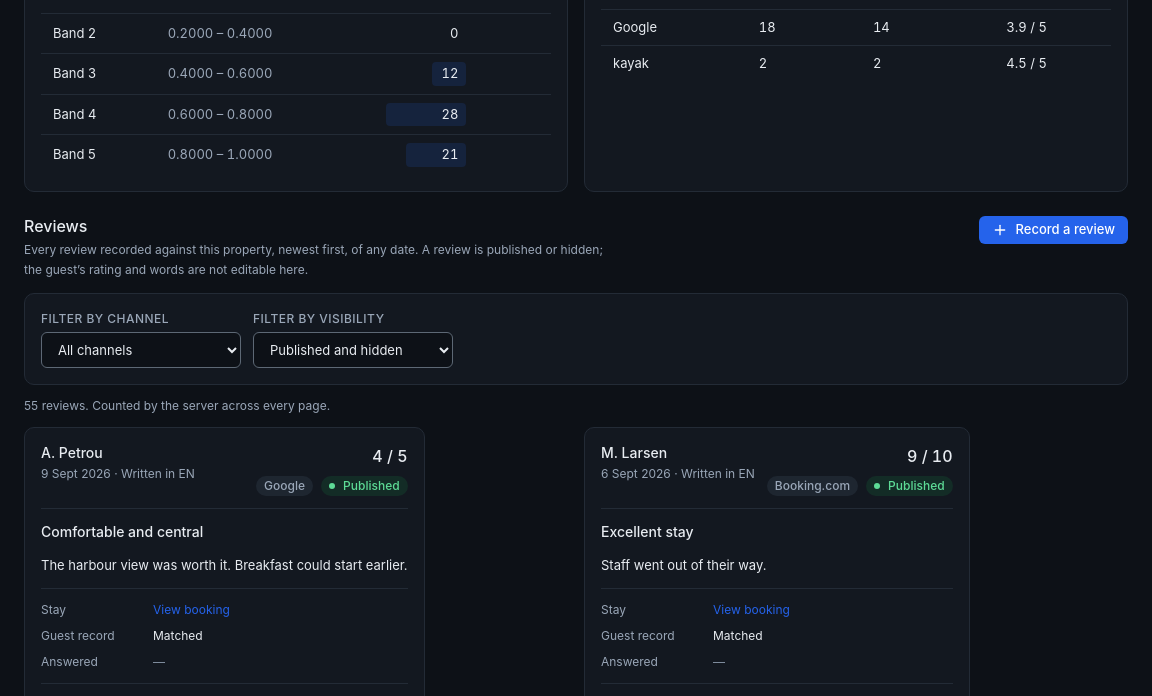
Test: filters and pagination › says an empty filtered result is a filtered result
(page scrolled)
Expected: the text "Comfortable and central" is shown, [41, 523, 203, 540]
Select "Airbnb" in the dropdown labelled "Filter by channel" at (141, 350), box [41, 332, 241, 368]
(page scrolled)
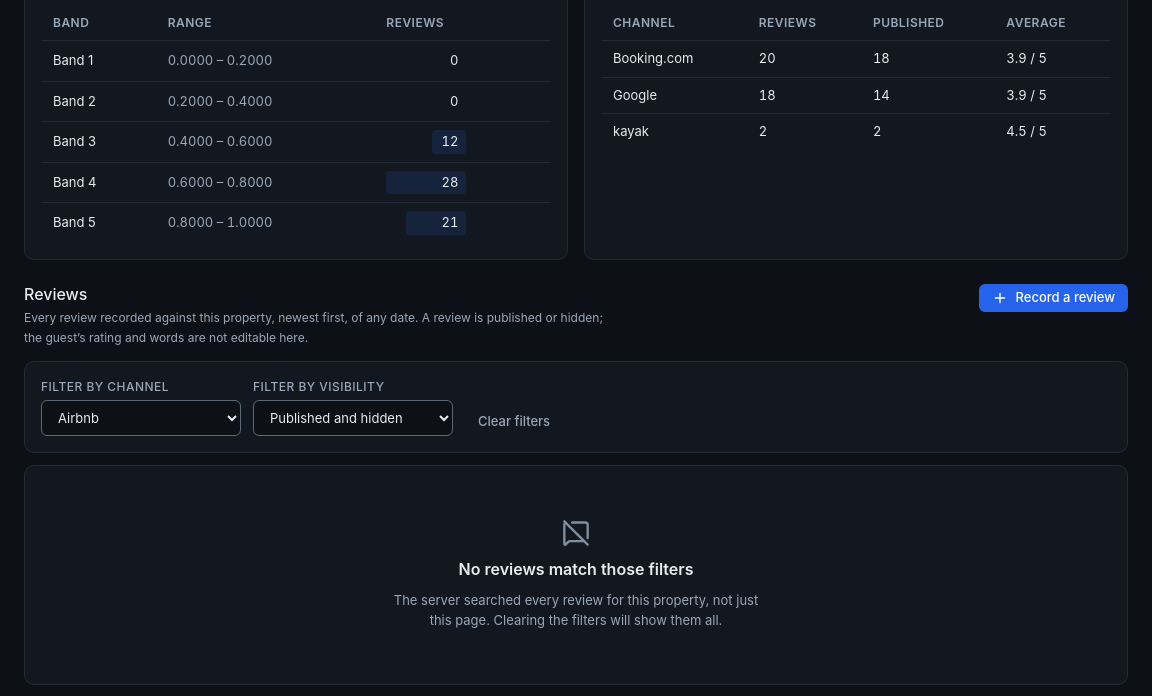
Now the heading "No reviews match those filters" is shown, box [458, 559, 693, 579]
